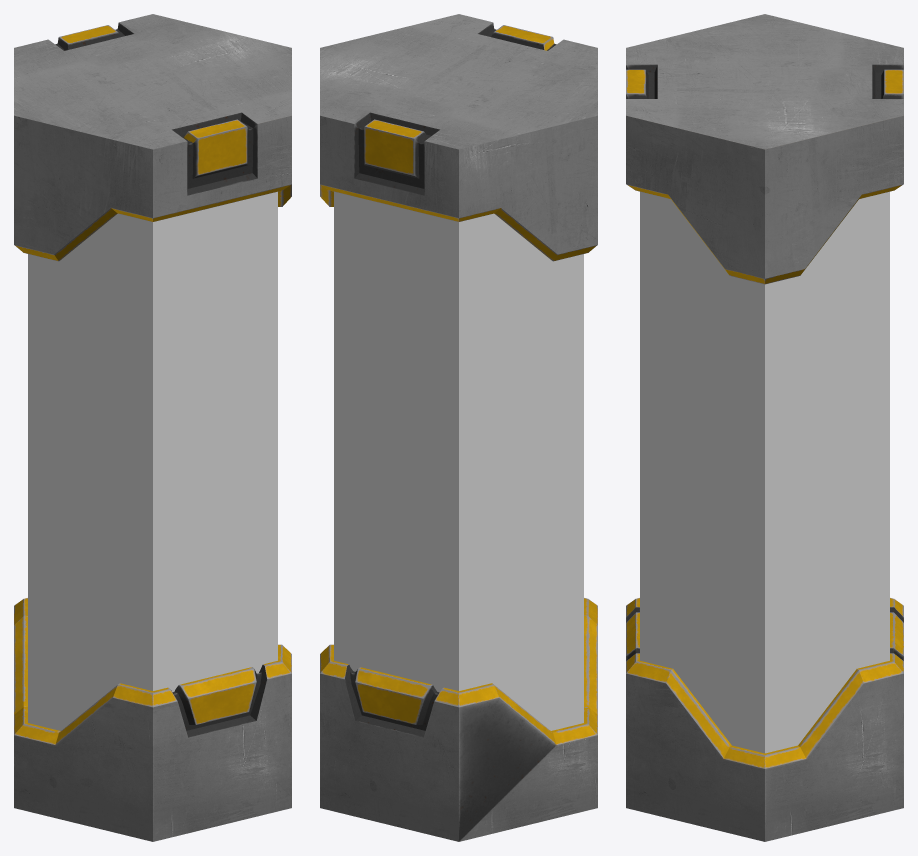
Rendered from resources_box.fbx.
3 renders of one model, left to right at view 1: azimuth 30°, elevation 25°; view 2: azimuth 150°, elevation 25°; view 3: azimuth 270°, elevation 25°, orthographic.
Visible parts, largest first — view 1: resources_box; view 2: resources_box; view 3: resources_box.
Boxes of the visible parts, <box> form: resources_box: <box>14,14,291,841</box>; resources_box: <box>320,14,597,841</box>; resources_box: <box>626,14,903,841</box>.
Size of the model in its own units: 84 by 200 by 72.75.
